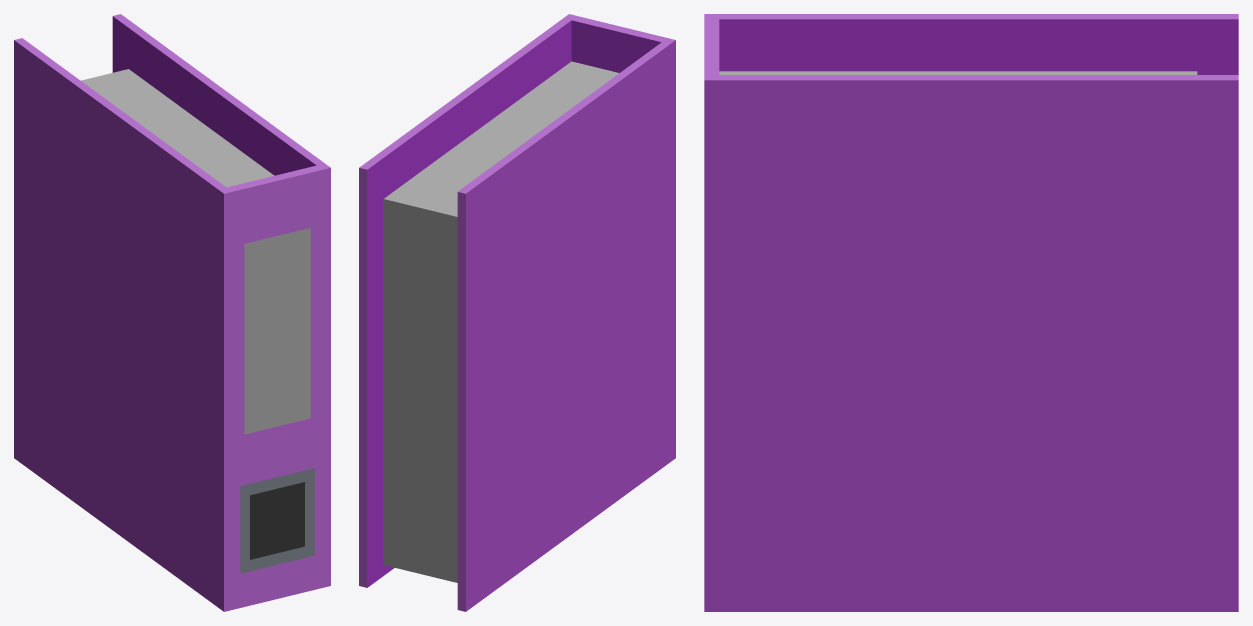
File: SO_Boxfile_07.fbx
The picture shows the model from 3 angles, left to right: view 1: azimuth 30°, elevation 25°; view 2: azimuth 150°, elevation 25°; view 3: azimuth 270°, elevation 25°; orthographic projection. The views are drawn at different scales.
Visible parts, largest first — view 1: SO_Boxfile_07; view 2: SO_Boxfile_07; view 3: SO_Boxfile_07.
Boxes of the visible parts, x1,y1,x2,y2 form: SO_Boxfile_07: (14,14,330,611); SO_Boxfile_07: (359,14,675,611); SO_Boxfile_07: (704,14,1238,611).
Bounding box in the file's own units: 0.1745 × 0.6529 × 0.5946.
